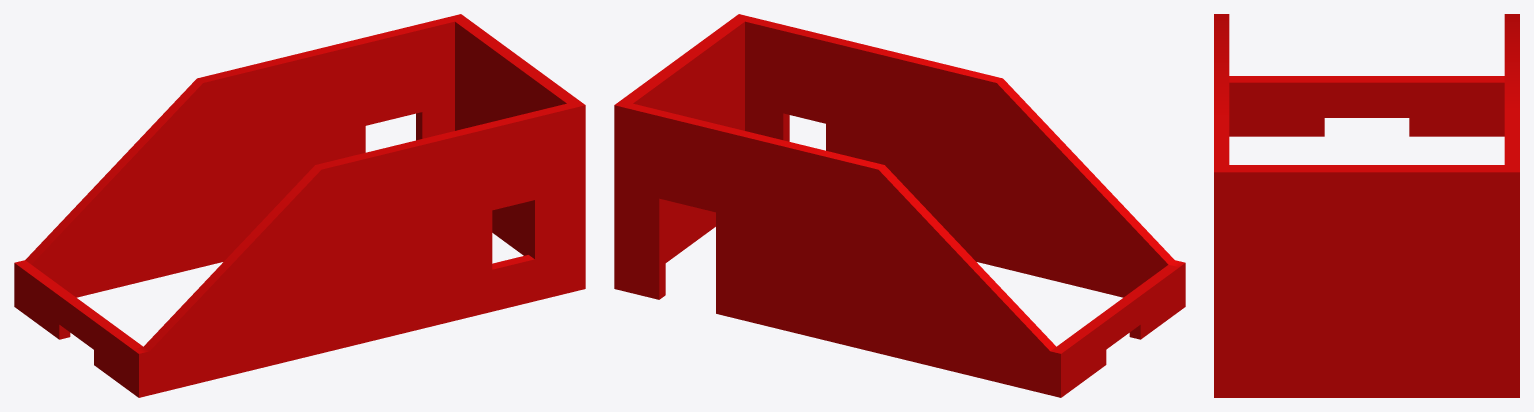
File: SM_House_MasterWall_02.fbx
3 views of the same model, side by side, from view 1: azimuth 30°, elevation 25°; view 2: azimuth 150°, elevation 25°; view 3: azimuth 270°, elevation 25° (orthographic). The views are drawn at different scales.
Parts seen in each view (by area): view 1: SM_House_MasterWall_02; view 2: SM_House_MasterWall_02; view 3: SM_House_MasterWall_02.
Boxes of the visible parts, left/top/right/bottom form: SM_House_MasterWall_02: left=14, top=14, right=585, bottom=397; SM_House_MasterWall_02: left=614, top=14, right=1185, bottom=397; SM_House_MasterWall_02: left=1214, top=14, right=1519, bottom=397.
Size of the model in its own units: 946 by 457 by 372.
